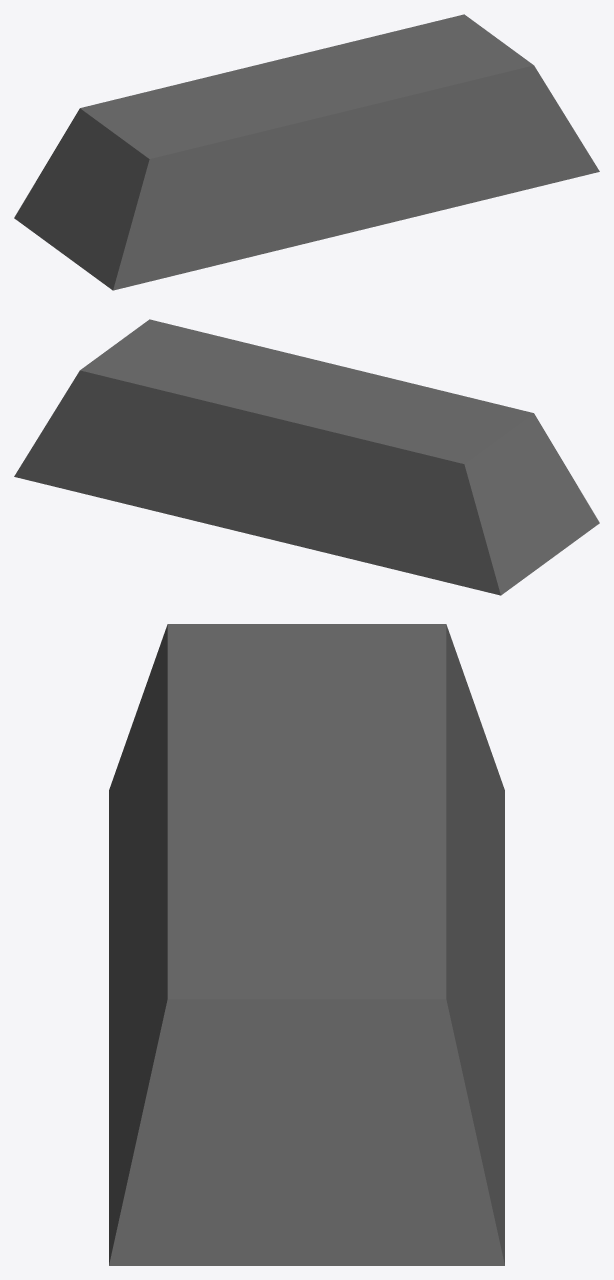
File: SM_Ingot.fbx
3 views of the same model, one above another, from view 1: azimuth 30°, elevation 25°; view 2: azimuth 150°, elevation 25°; view 3: azimuth 270°, elevation 25° (orthographic). The views are drawn at different scales.
Visible parts, largest first — view 1: Object002; view 2: Object002; view 3: Object002.
Part boxes in pixels (x1,y1,x2,y2): Object002: (14, 14, 599, 290); Object002: (14, 319, 599, 595); Object002: (109, 624, 504, 1265).
Bounding box in the file's own units: 0.912 × 0.1936 × 0.3212.
1 material, 1 textured.
